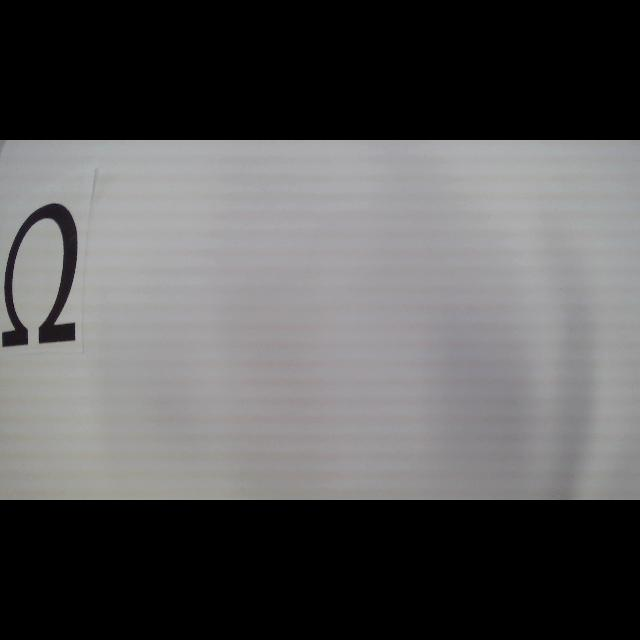OMEGA: (1, 202, 79, 348)
